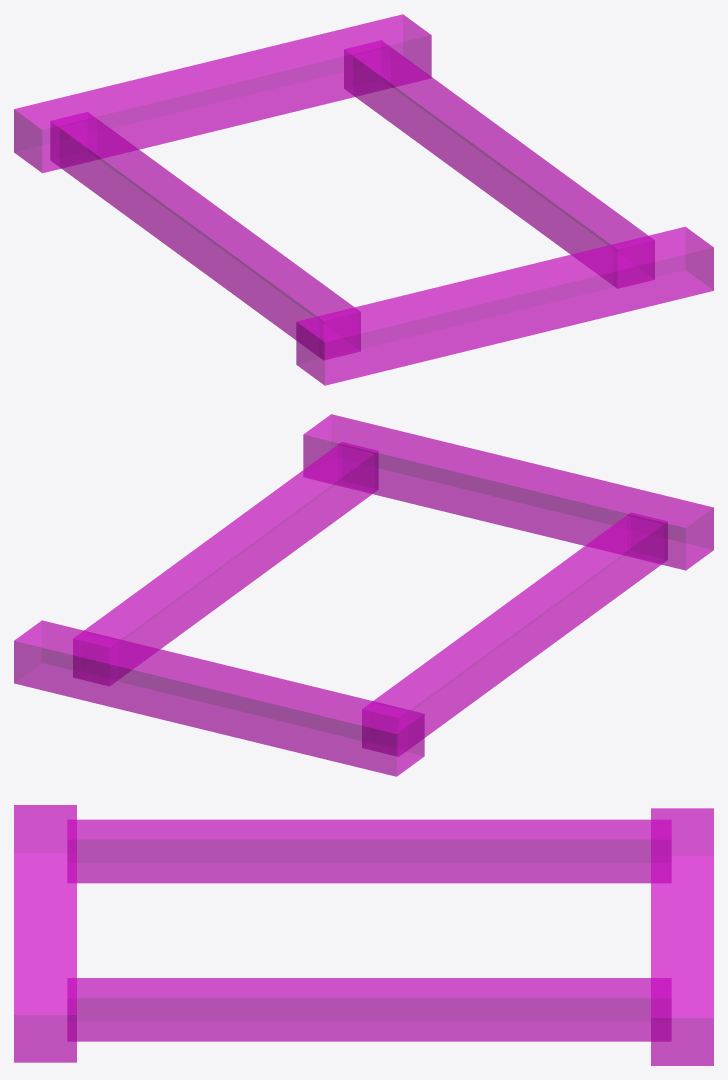
The model's file is SM_Veh_Ship_Grate_07_Collision.fbx.
The picture shows the model from 3 angles, top to bottom: view 1: azimuth 30°, elevation 25°; view 2: azimuth 150°, elevation 25°; view 3: azimuth 270°, elevation 25°; orthographic projection. The views are drawn at different scales.
Visible parts, largest first — view 1: SM_Veh_Ship_Grate_07_Collision; view 2: SM_Veh_Ship_Grate_07_Collision; view 3: SM_Veh_Ship_Grate_07_Collision.
Part boxes in pixels (box(x1,y1,x2,y2)): SM_Veh_Ship_Grate_07_Collision: box(14, 14, 713, 385); SM_Veh_Ship_Grate_07_Collision: box(14, 414, 713, 776); SM_Veh_Ship_Grate_07_Collision: box(14, 805, 713, 1065).
Bounding box in the file's own units: 334 × 35.05 × 464.
